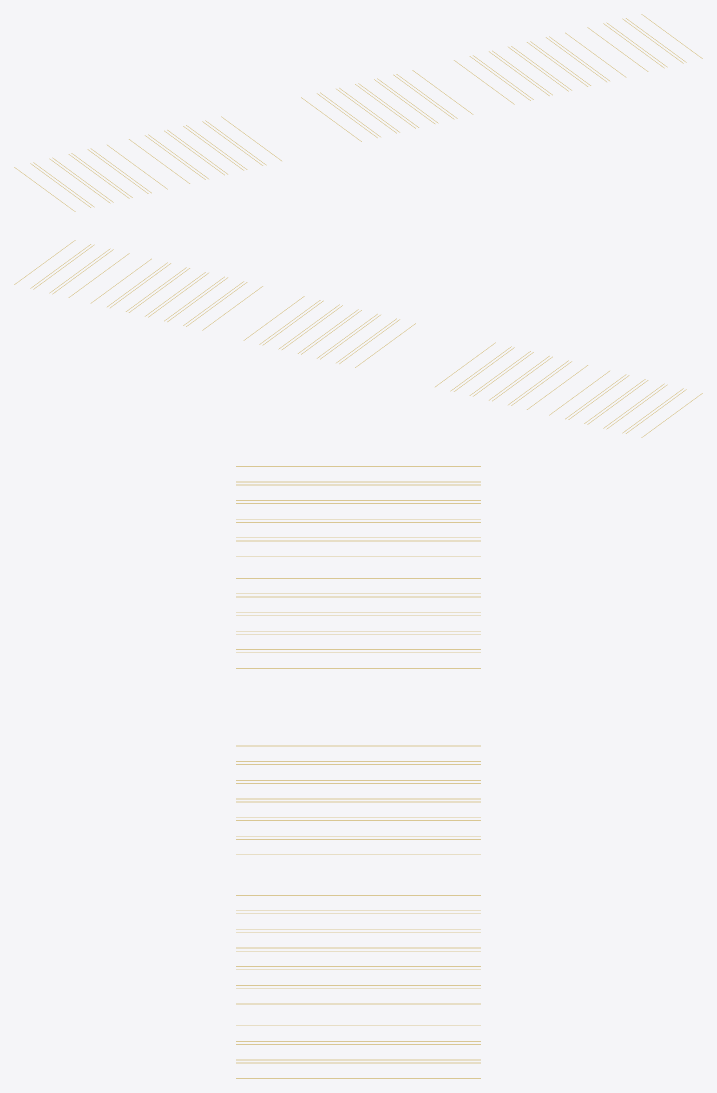
File: SM_MPRR_DockLines_-1_-1.fbx
3 views of the same model, one above another, from view 1: azimuth 30°, elevation 25°; view 2: azimuth 150°, elevation 25°; view 3: azimuth 270°, elevation 25° (orthographic). The views are drawn at different scales.
Visible parts, largest first — view 1: SM_MPRR_DockLines_-1_-1; view 2: SM_MPRR_DockLines_-1_-1; view 3: SM_MPRR_DockLines_-1_-1.
Part boxes in pixels (box(x1,y1,x2,y2)): SM_MPRR_DockLines_-1_-1: box(14, 14, 702, 211); SM_MPRR_DockLines_-1_-1: box(14, 240, 702, 437); SM_MPRR_DockLines_-1_-1: box(236, 466, 480, 1078).
Size of the model in its own units: 13021 by 2200 by 0.
